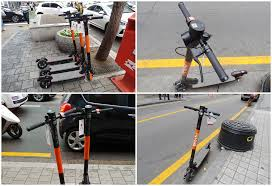kick_board: (182, 105, 220, 182)
kick_handler: (178, 3, 228, 82), (28, 108, 76, 132), (68, 105, 114, 116), (184, 105, 221, 117), (71, 14, 102, 23)
kick_neck: (52, 130, 66, 184), (84, 119, 90, 182), (77, 24, 86, 59), (84, 26, 91, 67), (183, 52, 191, 79)
kick_wheel: (40, 78, 51, 89), (37, 59, 46, 68)
